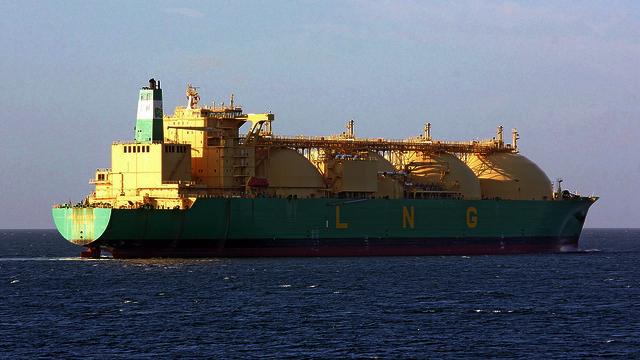LNG_ship: (48, 80, 599, 257)
